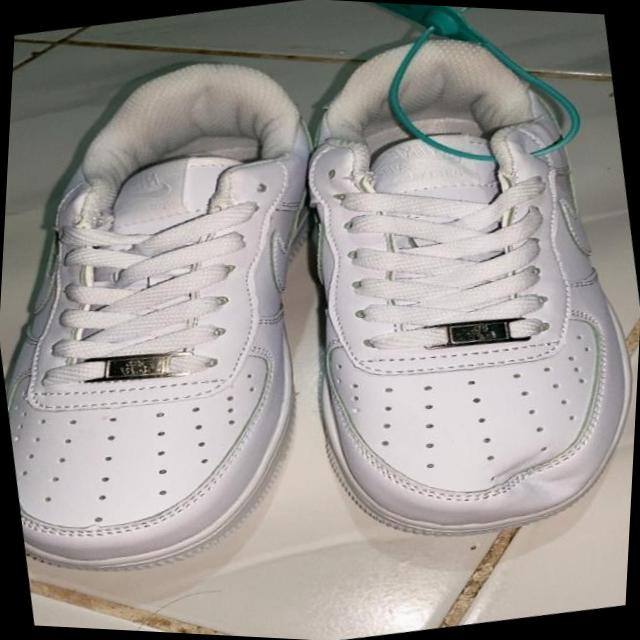nike_fake_airforce: (243, 0, 640, 571), (0, 35, 385, 598)
